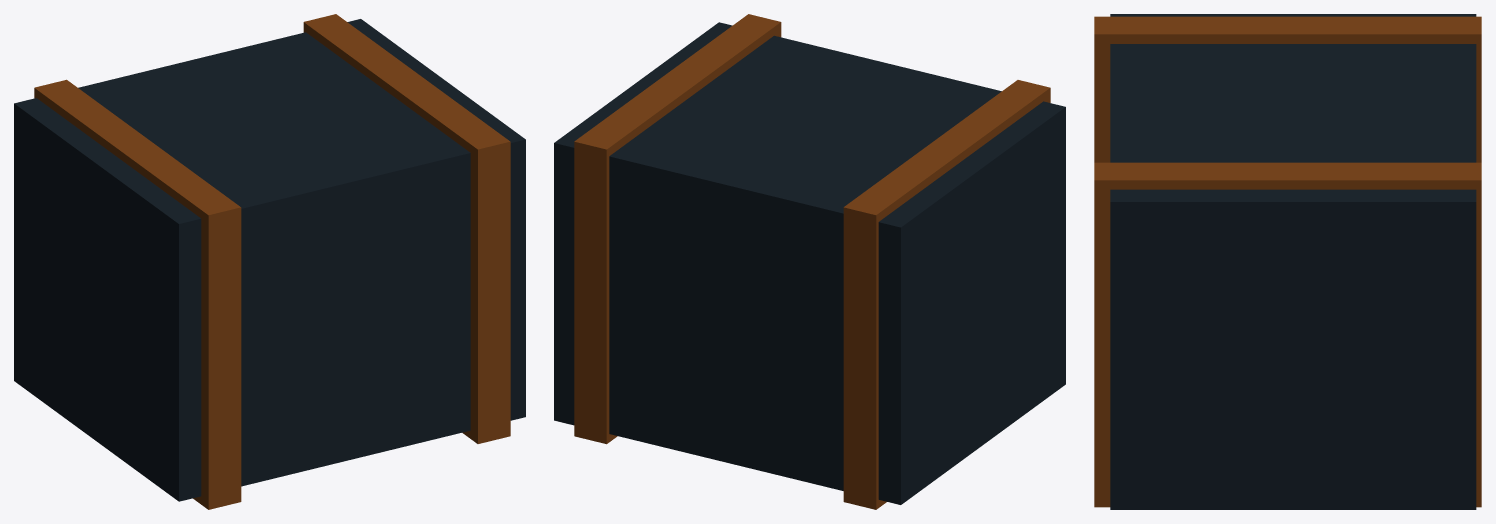
File: SM_Crate.obj
3 renders of one model, left to right at view 1: azimuth 30°, elevation 25°; view 2: azimuth 150°, elevation 25°; view 3: azimuth 270°, elevation 25°, orthographic. The views are drawn at different scales.
Visible parts, largest first — view 1: SM_Crate; view 2: SM_Crate; view 3: SM_Crate.
Part boxes in pixels (x1,y1,x2,y2): SM_Crate: (14,14,525,509); SM_Crate: (554,14,1065,509); SM_Crate: (1094,14,1481,509).
Bounding box in the file's own units: 85 × 70 × 74.
